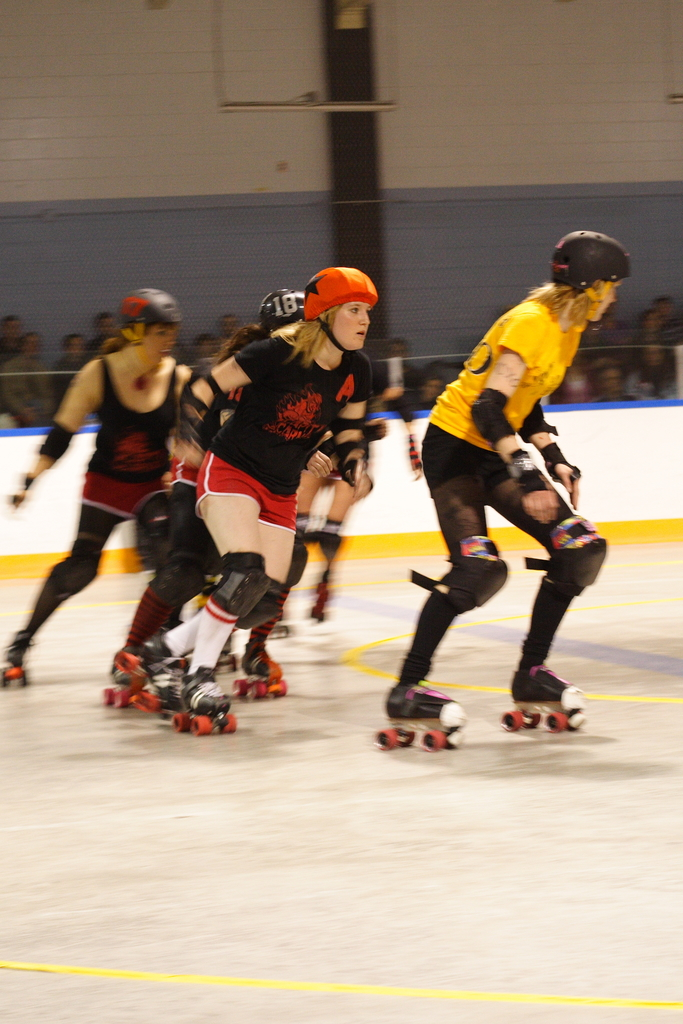Person: (374, 227, 635, 750), (115, 261, 367, 711), (0, 289, 193, 686), (207, 284, 307, 363)
